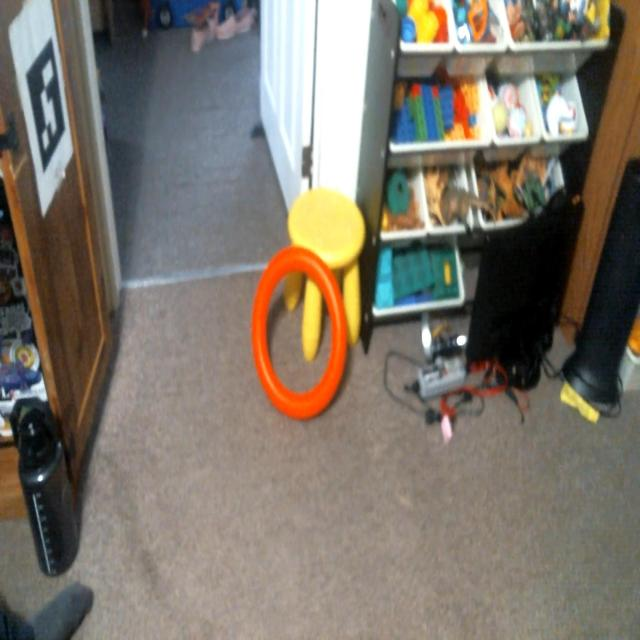note: (249, 239, 346, 421)
